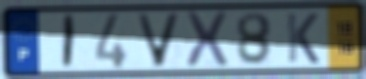4: (93, 11, 130, 71)
8: (234, 12, 275, 66)
I: (60, 13, 78, 71)
K: (284, 11, 321, 66)
V: (133, 12, 184, 69)
X: (183, 10, 231, 71)
